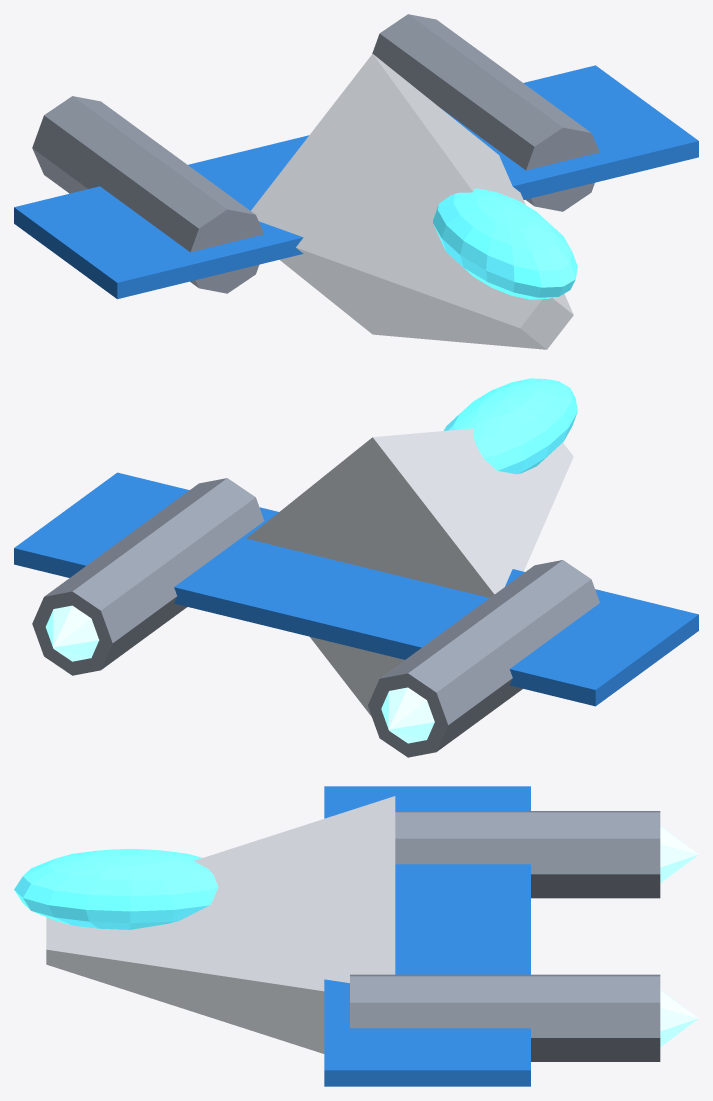
The model's file is frigate.glb.
The picture shows the model from 3 angles, top to bottom: view 1: azimuth 30°, elevation 25°; view 2: azimuth 150°, elevation 25°; view 3: azimuth 270°, elevation 25°; orthographic projection.
Visible parts, largest first — view 1: frigate; view 2: frigate; view 3: frigate.
Part boxes in pixels (x1=…): frigate: x1=14, y1=14, x2=698, y2=349; frigate: x1=14, y1=378, x2=698, y2=757; frigate: x1=14, y1=786, x2=698, y2=1086.
Size of the model in its own units: 2.6 by 1.2 by 2.65.
1 material, 1 textured.
